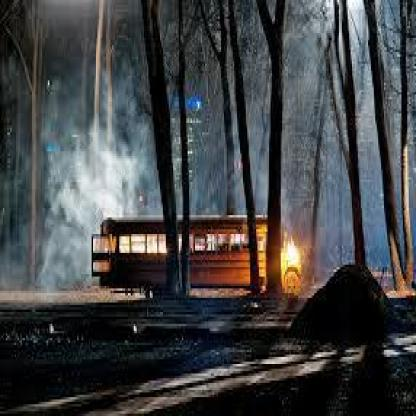smoke: (47, 131, 120, 288)
